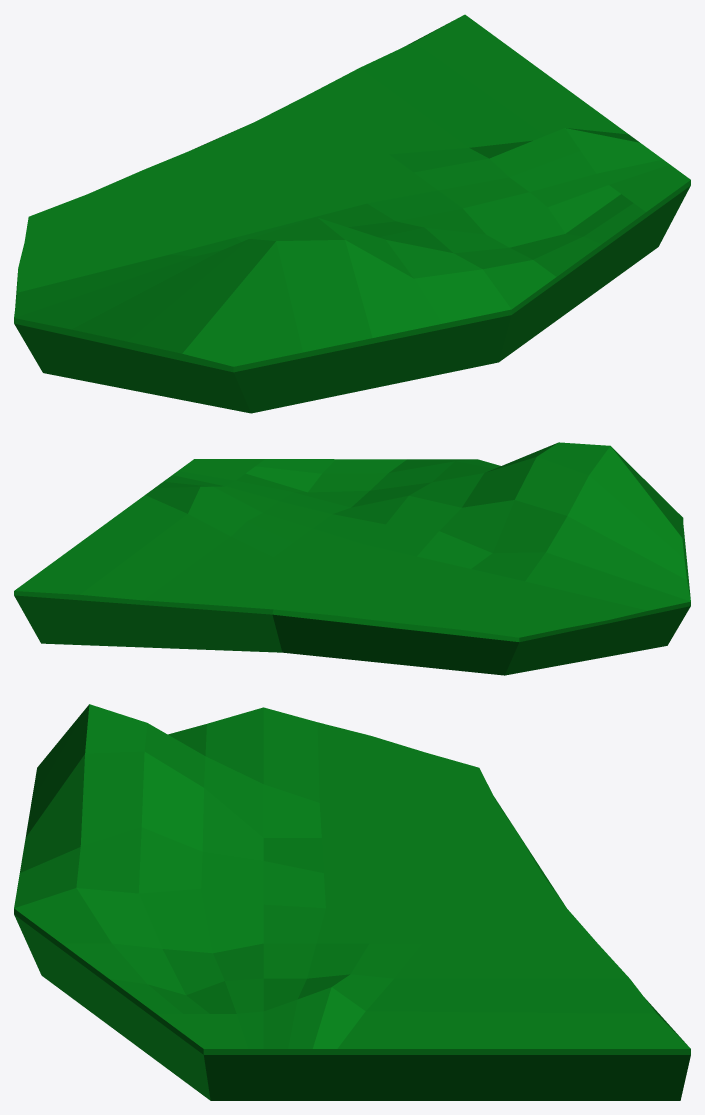
Rendered from 3DProject_TempMap_Ground 1.fbx.
3 views of the same model, one above another, from view 1: azimuth 30°, elevation 25°; view 2: azimuth 150°, elevation 25°; view 3: azimuth 270°, elevation 25° (orthographic). The views are drawn at different scales.
Visible parts, largest first — view 1: Cube; view 2: Cube; view 3: Cube.
Part boxes in pixels (x1=…): Cube: x1=14, y1=14, x2=690, y2=413; Cube: x1=14, y1=442, x2=690, y2=675; Cube: x1=14, y1=704, x2=690, y2=1100.
Size of what is drawn, in the model's own units: 24291 by 5505 by 20344.
